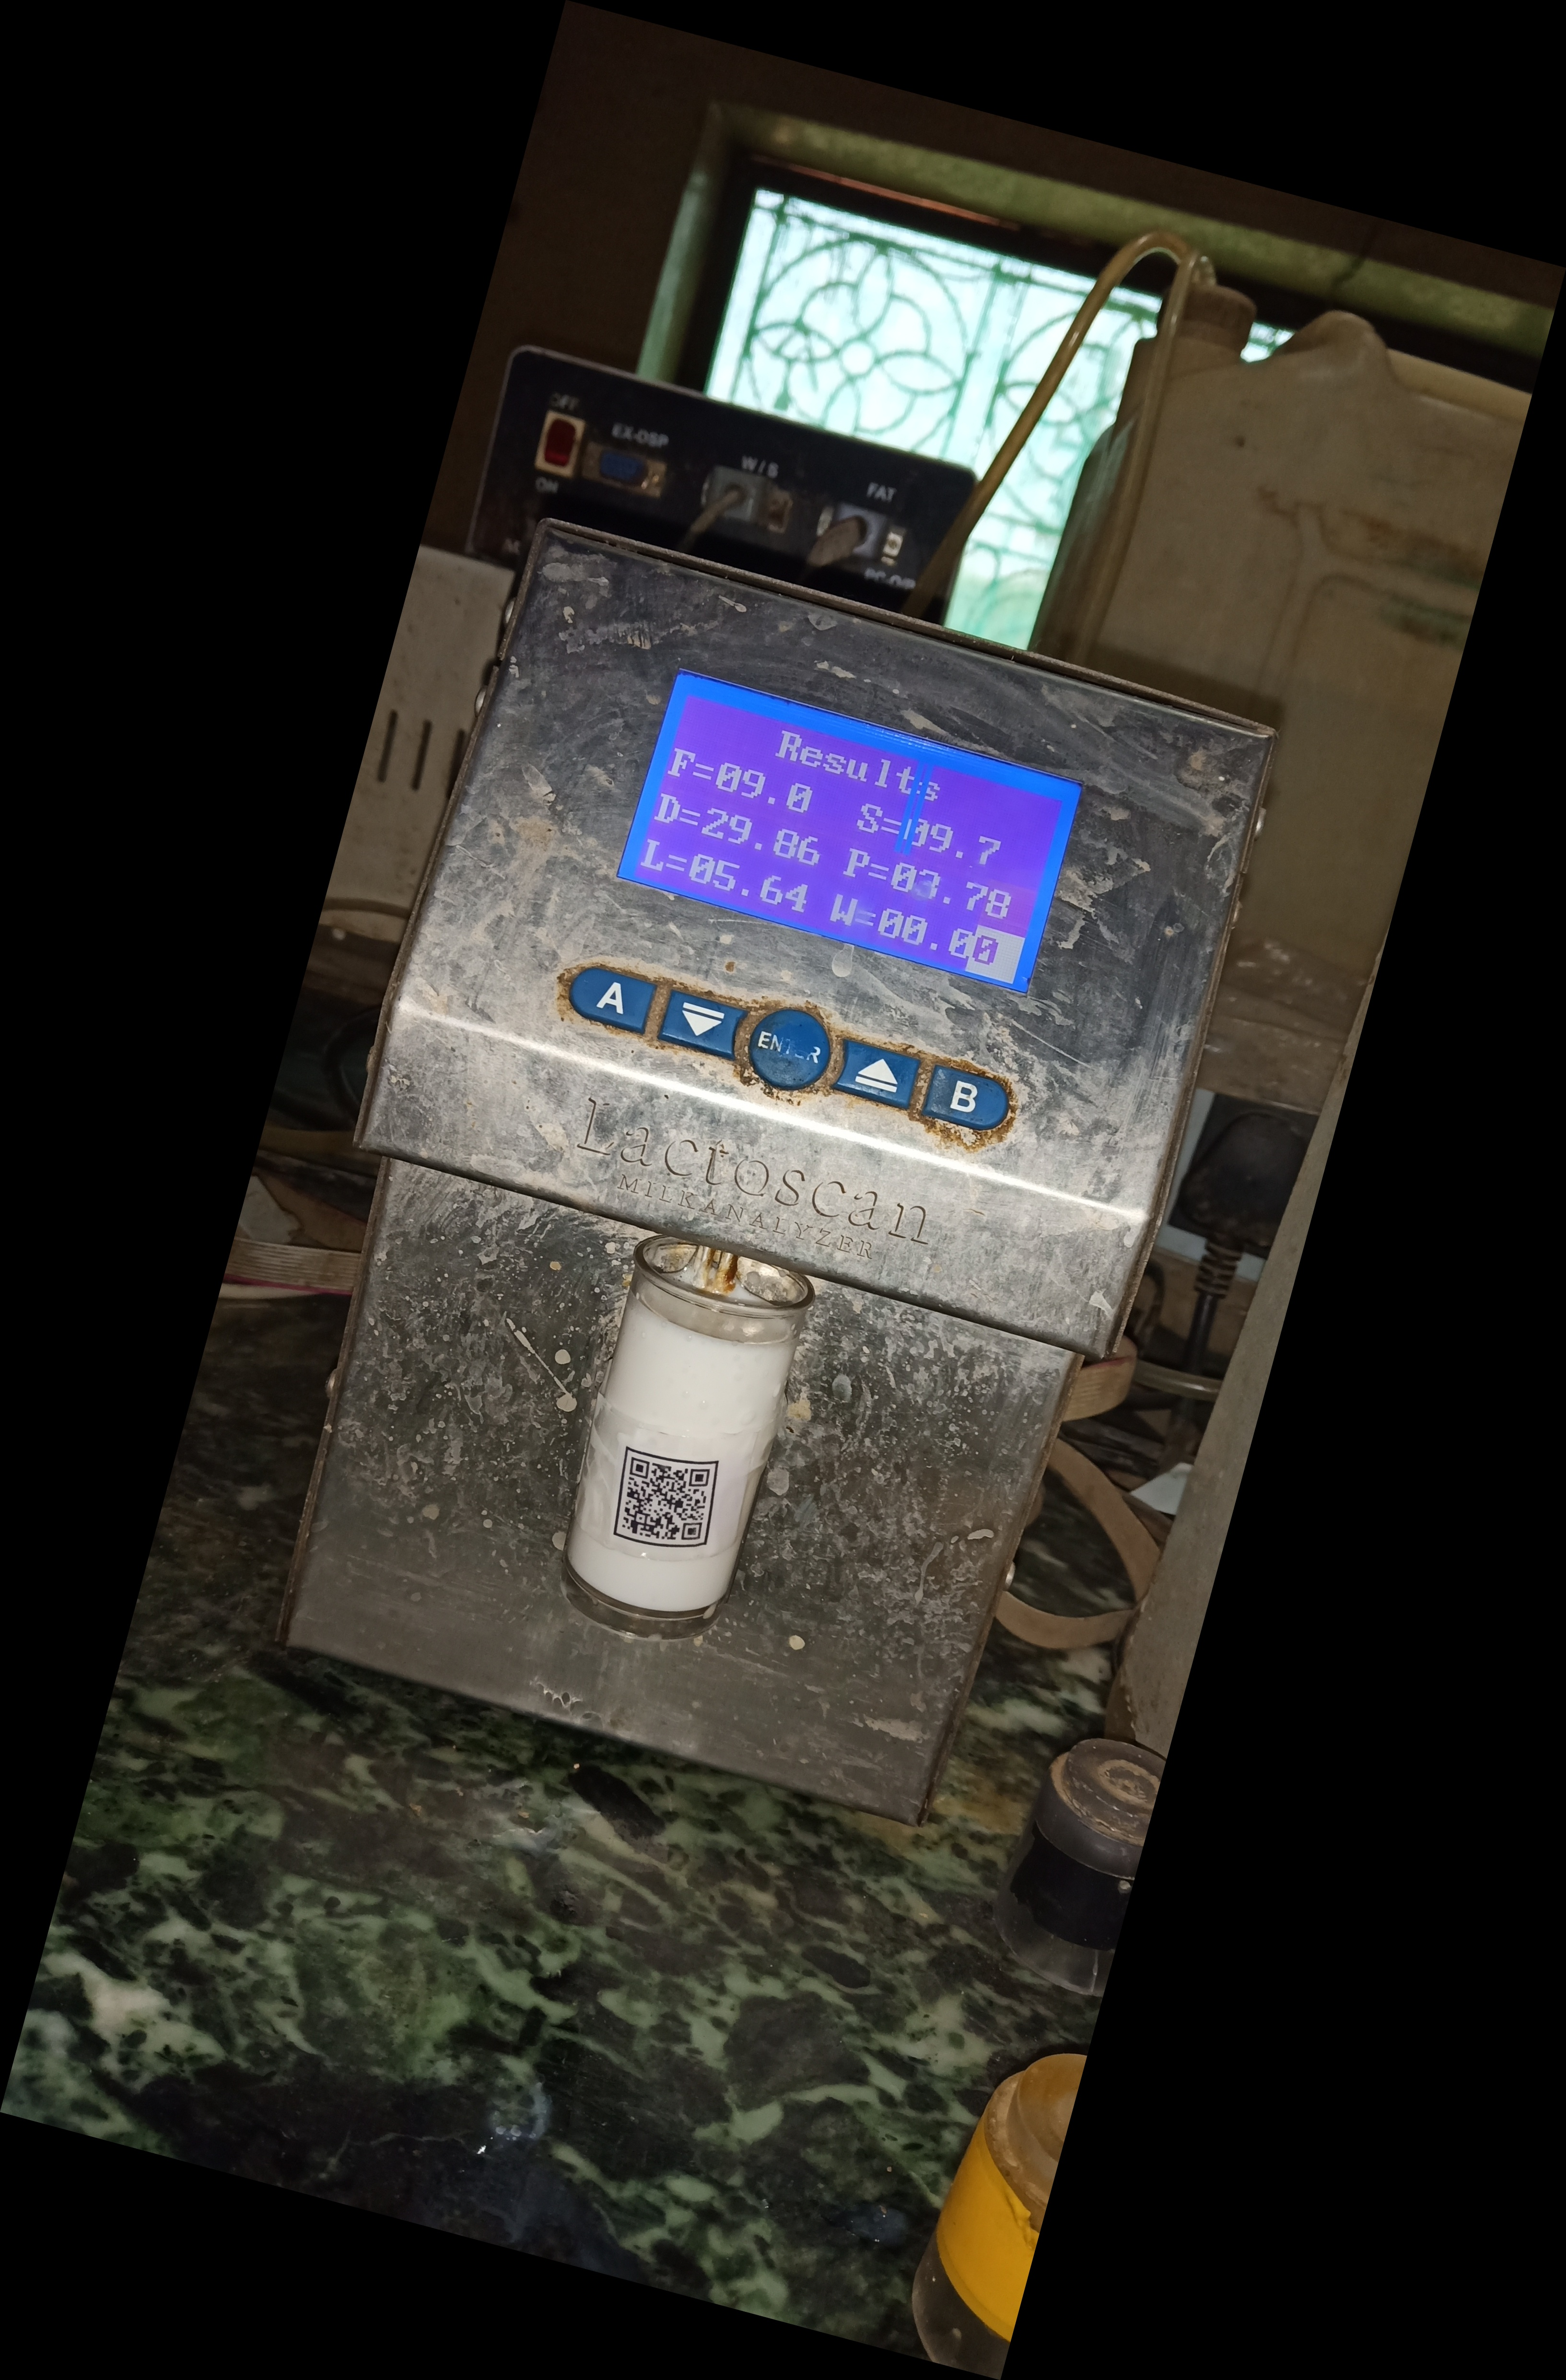lcd: (615, 669, 1098, 1020)
qr: (603, 1449, 732, 1559)
